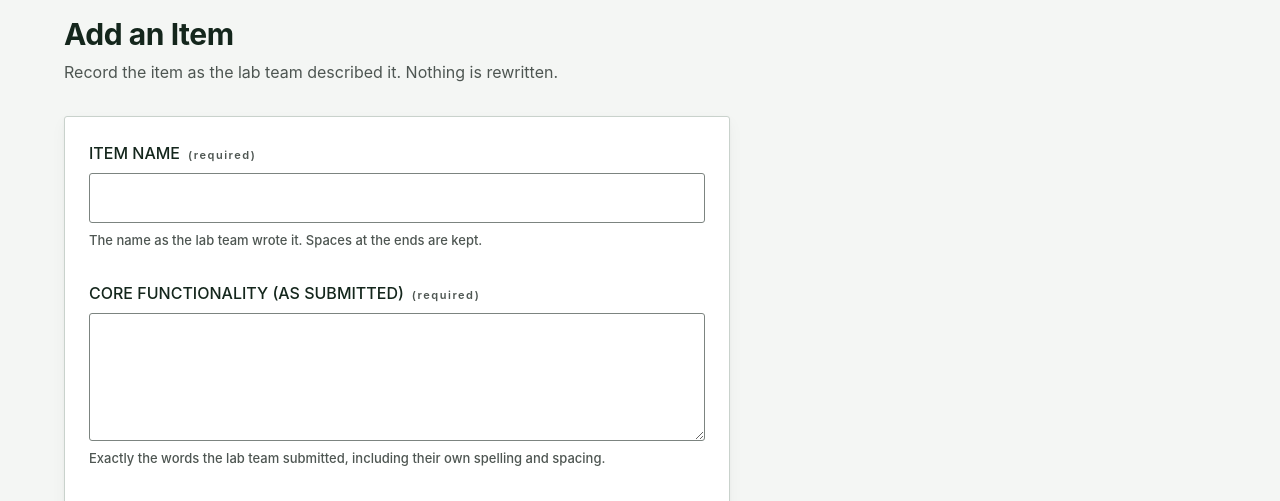
Test case: S-05 Challenger Suite — M1 Pre-Agreed Seams › Seam 3: Item Creation, Editing & 409 Condition Validation › Attack 27: displays field error "Choose one of the four recorded states." on 409 rejection in NewItemPage
The width and height of the screenshot is (1280, 501).
Type "Widget" into the field labelled "ITEM NAME" at (397, 198), box [89,172,705,222]
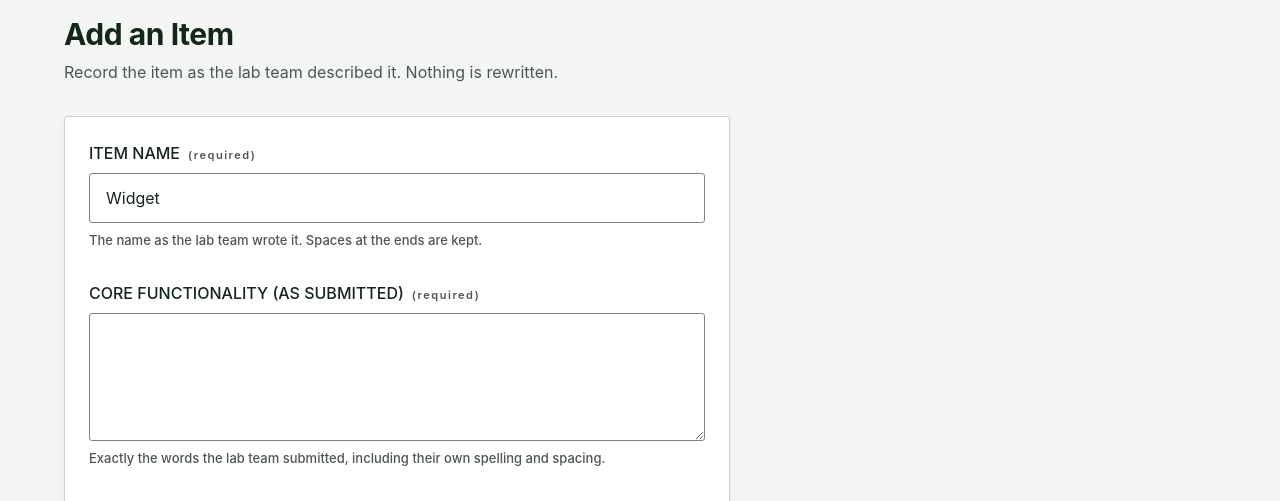
Type "Core" into the text box labelled "CORE FUNCTIONALITY (AS SUBMITTED)" at (397, 377), box [89,313,705,441]
(page scrolled)
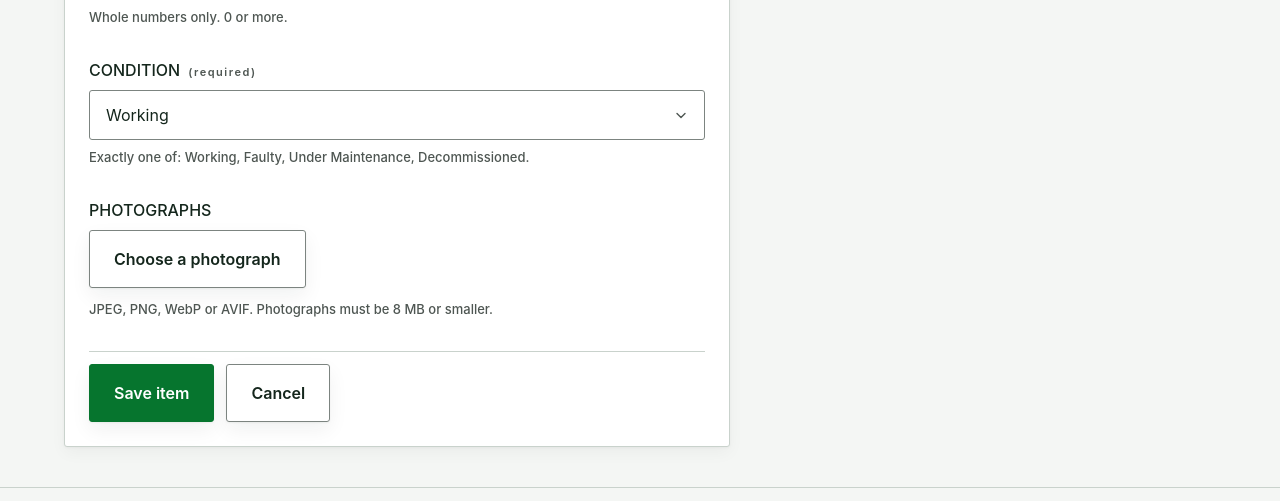
Click the button "Save item" at (152, 393), box [89,364,214,422]
(page scrolled)
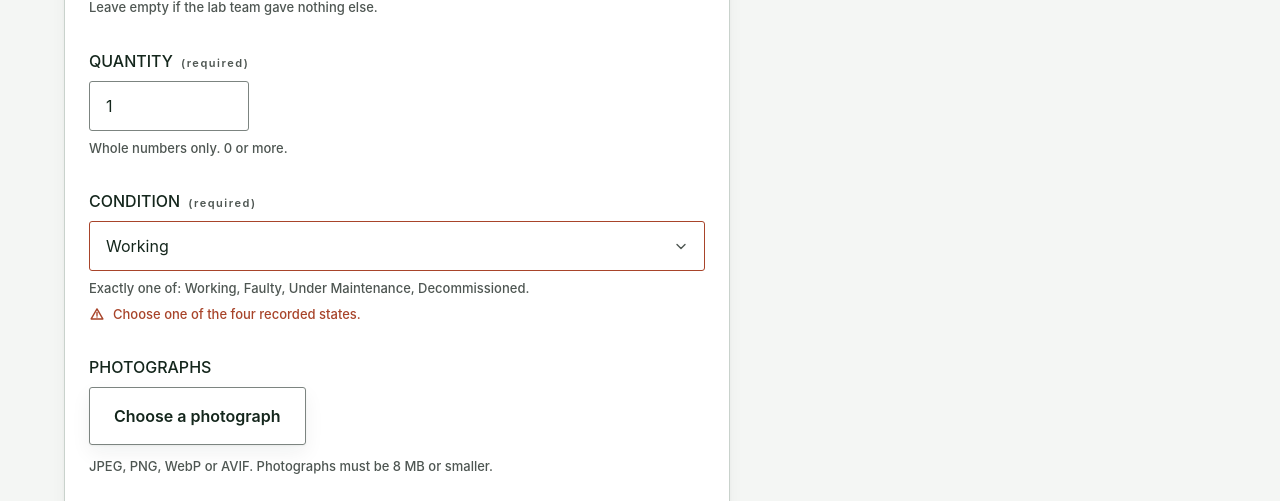
Result: the text "Choose one of the four recorded states." is shown at [113,305,361,323]
